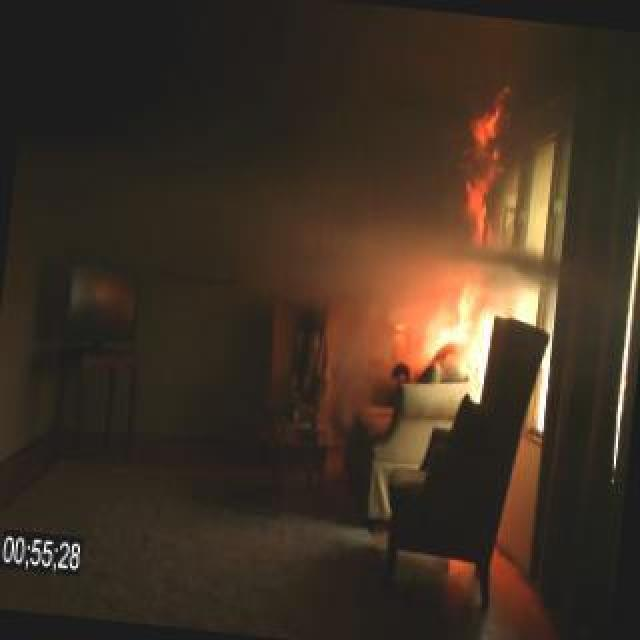fire: (420, 266, 539, 399), (464, 88, 509, 250)
